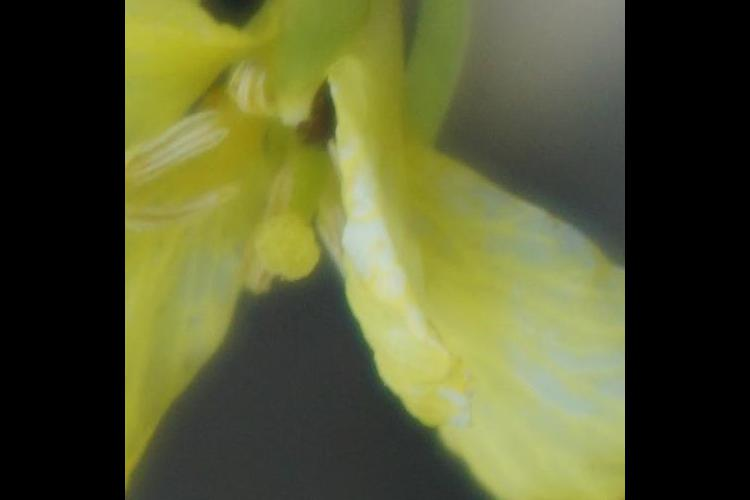yellow: (135, 1, 619, 500)
